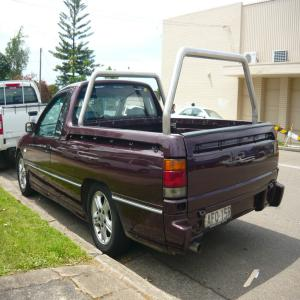Vehicle-registration-plate: (204, 204, 234, 231)
